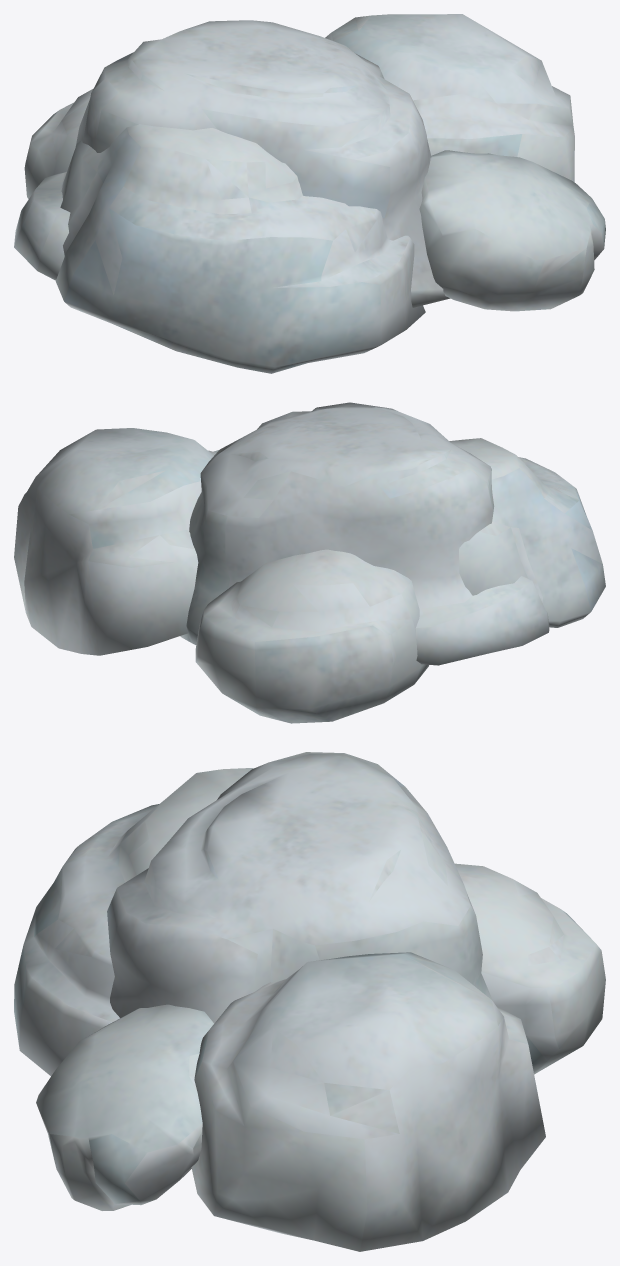
File: P_RockDesert_Clump07.obj
3 views of the same model, one above another, from view 1: azimuth 30°, elevation 25°; view 2: azimuth 150°, elevation 25°; view 3: azimuth 270°, elevation 25° (orthographic). The views are drawn at different scales.
Bounding box in the file's own units: 6.12 × 2.62 × 5.03.
